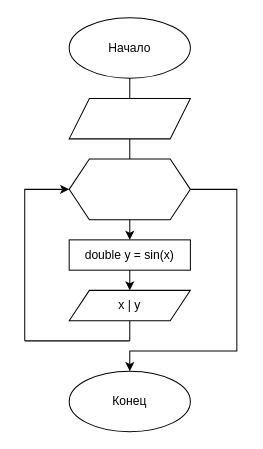
This 263x449 diagram has some shape labels left out. Here are the shapes that lost their labels. From the top down, the centre of each, then its label:
(129,118): start, end, step
(129,189): double x = start, x <= end, x += step
